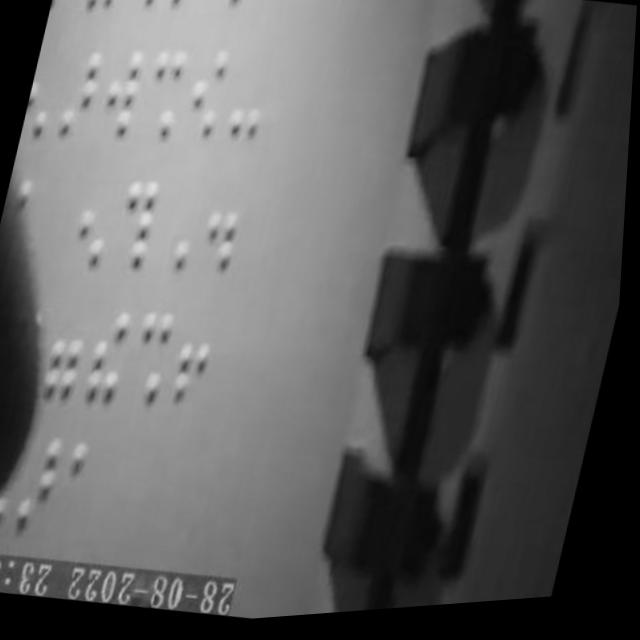braiile: (9, 431, 74, 542), (121, 305, 182, 412), (80, 310, 140, 413), (136, 43, 194, 144), (53, 40, 107, 148), (36, 307, 94, 407), (111, 173, 167, 276), (170, 312, 226, 415), (197, 179, 252, 282), (96, 43, 151, 145), (182, 48, 239, 146), (69, 174, 121, 274), (226, 49, 277, 147), (155, 186, 208, 277), (20, 41, 66, 142), (80, 0, 123, 17)
